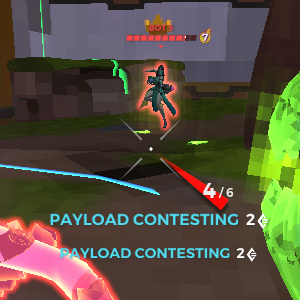model: (140, 57, 176, 133)
